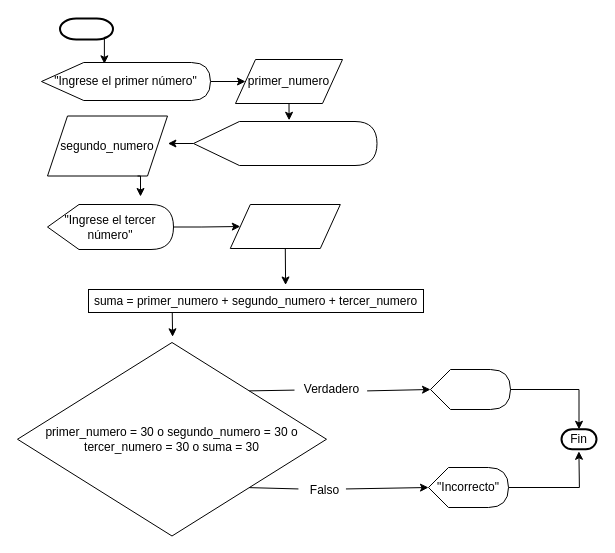
Image size: 615x553. Some labels were removed from this diagram. The shapes that lost their labels are listed below. From the top down, each one's centre as x and y in pixels, then its label:
point 86,28: Inicio
point 284,143: "Ingrese el segundo número"
point 284,226: tercer_numero
point 470,389: "Correcto"
